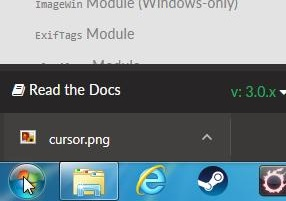cursor: (15, 169, 44, 197)
